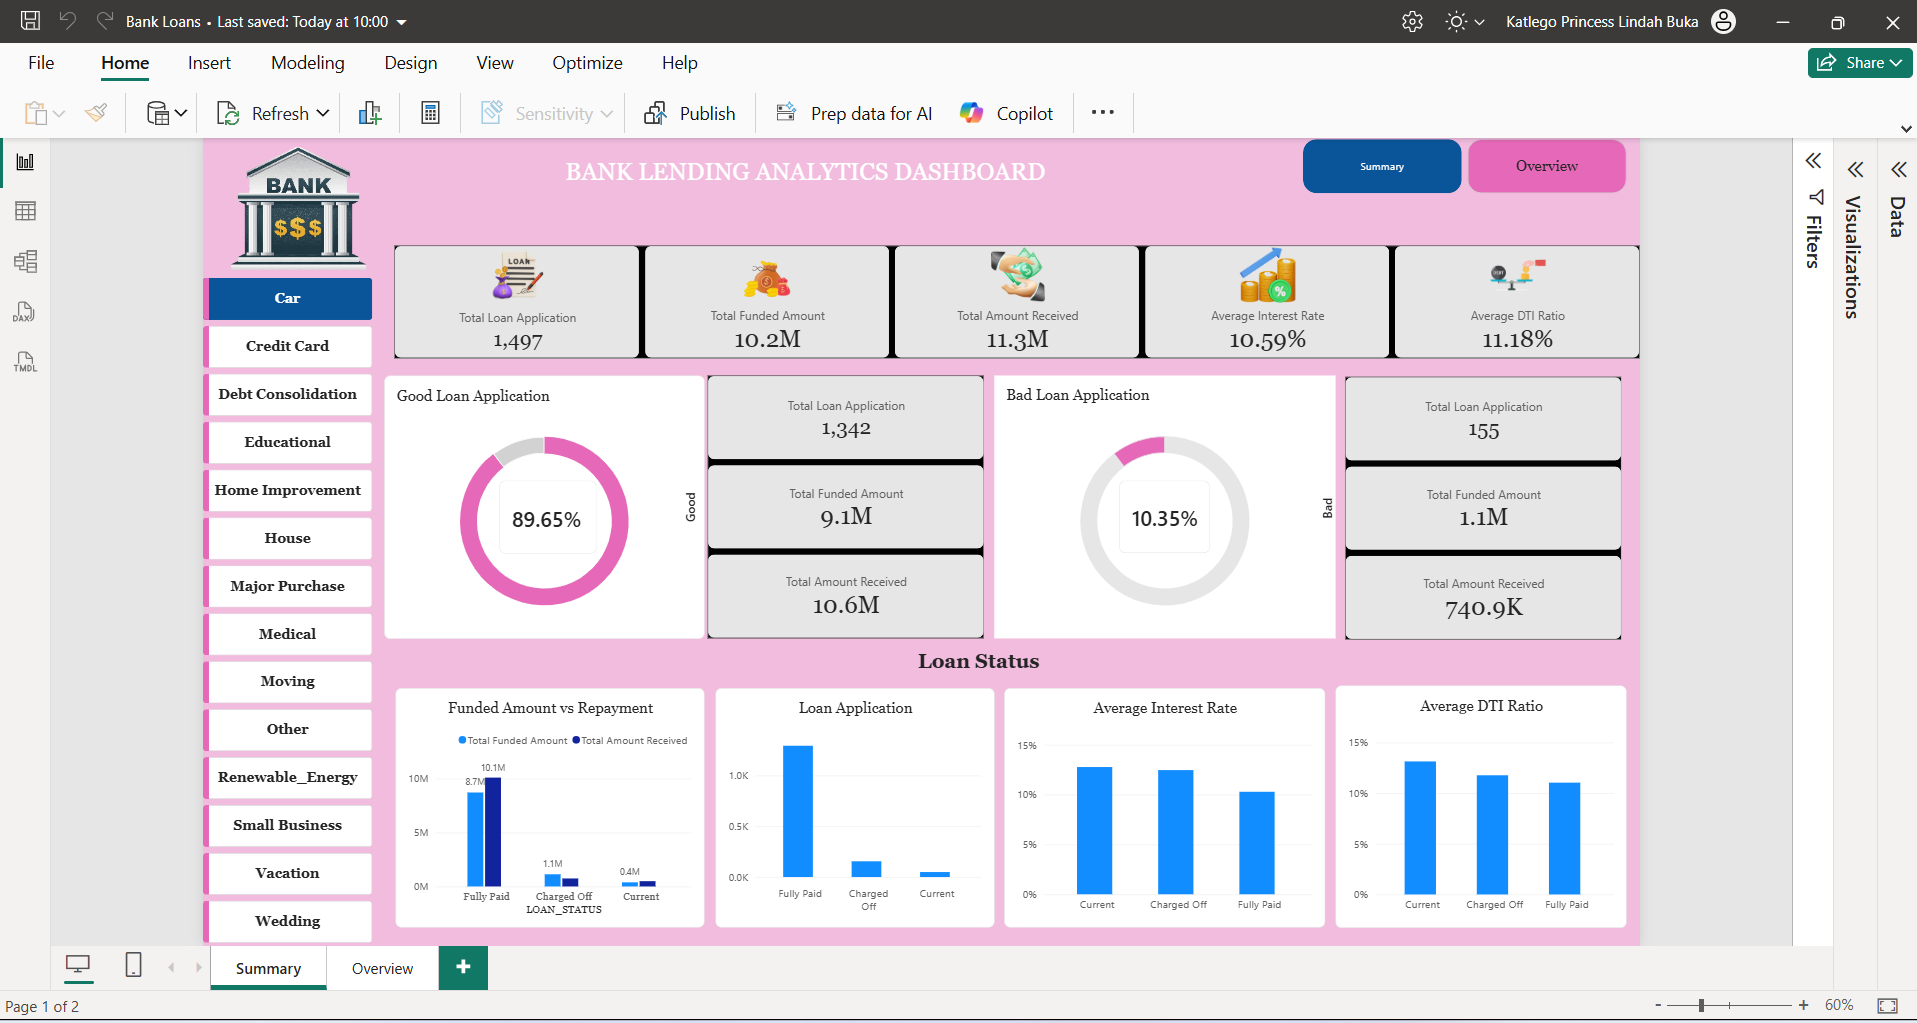

Layout of this report page (visuals, bound fields, positions):
{"tool":"powerbi","page":{"name":"Summary","canvas":[1920,1080],"ordinal":0},"visuals":[{"type":"cardVisual","fields":{"Data":["financial_loan.Total Loan Application","financial_loan.Total Funded Amount","financial_loan.Total Amount Received","financial_loan.Average Interest Rate","financial_loan.Average DTI Rate"]},"box":[255.2,143,1665,151.7],"z":0},{"type":"donutChart","title":"Good Loan Application","fields":{"Category":["financial_loan.Good_vs_Bad_Loan"],"Y":["financial_loan.Total Loan Application"]},"box":[242.5,316.7,428.1,352],"z":1000},{"type":"donutChart","title":"Bad Loan Application","fields":{"Category":["financial_loan.Good_vs_Bad_Loan"],"Y":["financial_loan.Total Loan Application"]},"box":[1056.8,316.7,456,351.1],"z":2000},{"type":"cardVisual","fields":{"Data":["financial_loan.Good Loan %"]},"box":[395.7,457.1,130,98.6],"z":3000},{"type":"cardVisual","fields":{"Data":["financial_loan.Bad Loan %"]},"box":[1223.3,457.8,121.2,97.7],"z":4000},{"type":"cardVisual","fields":{"Data":["financial_loan.Total Loan Application","financial_loan.Total Funded Amount","financial_loan.Total Amount Received"],"Rows":["financial_loan.Good_vs_Bad_Loan"]},"box":[638.8,316.7,403.4,352],"z":5000},{"type":"cardVisual","fields":{"Data":["financial_loan.Total Loan Application","financial_loan.Total Funded Amount","financial_loan.Total Amount Received"],"Rows":["financial_loan.Good_vs_Bad_Loan"]},"box":[1491.2,318.5,403.4,352],"z":6000},{"type":"clusteredColumnChart","title":"Funded Amount vs Repayment","fields":{"Category":["financial_loan.LOAN_STATUS"],"Y":["financial_loan.Total Funded Amount","financial_loan.Total Amount Received"]},"box":[257,734.7,412.6,320.3],"z":7000},{"type":"clusteredColumnChart","title":"Loan Application","fields":{"Category":["financial_loan.LOAN_STATUS"],"Y":["financial_loan.Total Loan Application"]},"box":[684.1,734.7,372.8,320.3],"z":8000},{"type":"textbox","box":[955.5,682.2,202.7,52.5],"z":9000},{"type":"clusteredColumnChart","title":"Average Interest Rate","fields":{"Category":["financial_loan.LOAN_STATUS"],"Y":["financial_loan.Average Interest Rate"]},"box":[1069.5,734.7,428.9,320.3],"z":10000},{"type":"clusteredColumnChart","title":"Average DTI Ratio","fields":{"Category":["financial_loan.LOAN_STATUS"],"Y":["financial_loan.Average DTI Ratio"]},"box":[1512.9,731.1,389.1,323.9],"z":11000},{"type":"image","box":[0,0,255.2,186.4],"z":12000},{"type":"advancedSlicerVisual","fields":{"Values":["financial_loan.PURPOSE"]},"box":[0,186.4,226.2,894],"z":13000},{"type":"textbox","box":[276.9,27.1,1055,67],"z":14000},{"type":"pageNavigator","box":[1469.4,1.8,432.5,72.4],"z":15000}]}

Visuals, with their boxes on the page's 1920x1080 design canvas (x1, y1, x2, y2). These are canvas units, not pixel positions in the 1917x1023 screenshot, which may show the page scaled, cropped or inside an application window:
cardVisual - financial_loan.Total Loan Application x financial_loan.Total Funded Amount: (left=255, top=143, right=1920, bottom=295)
"Good Loan Application" donutChart: (left=242, top=317, right=671, bottom=669)
"Bad Loan Application" donutChart: (left=1057, top=317, right=1513, bottom=668)
cardVisual - financial_loan.Good Loan %: (left=396, top=457, right=526, bottom=556)
cardVisual - financial_loan.Bad Loan %: (left=1223, top=458, right=1344, bottom=556)
cardVisual - financial_loan.Total Loan Application x financial_loan.Total Funded Amount: (left=639, top=317, right=1042, bottom=669)
cardVisual - financial_loan.Total Loan Application x financial_loan.Total Funded Amount: (left=1491, top=318, right=1895, bottom=670)
"Funded Amount vs Repayment" clusteredColumnChart: (left=257, top=735, right=670, bottom=1055)
"Loan Application" clusteredColumnChart: (left=684, top=735, right=1057, bottom=1055)
textbox: (left=956, top=682, right=1158, bottom=735)
"Average Interest Rate" clusteredColumnChart: (left=1070, top=735, right=1498, bottom=1055)
"Average DTI Ratio" clusteredColumnChart: (left=1513, top=731, right=1902, bottom=1055)
image: (left=0, top=0, right=255, bottom=186)
advancedSlicerVisual - financial_loan.PURPOSE: (left=0, top=186, right=226, bottom=1080)
textbox: (left=277, top=27, right=1332, bottom=94)
pageNavigator: (left=1469, top=2, right=1902, bottom=74)
